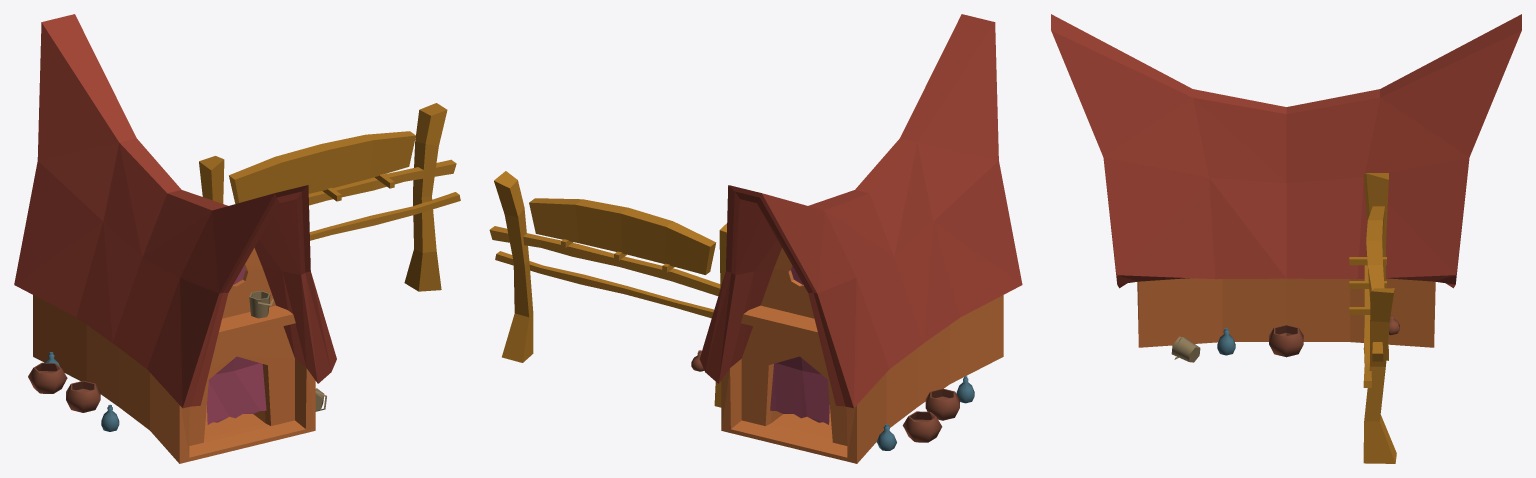
File: witchhouse3.FBX
3 renders of one model, left to right at view 1: azimuth 30°, elevation 25°; view 2: azimuth 150°, elevation 25°; view 3: azimuth 270°, elevation 25°, orthographic.
Parts seen in each view (by area): view 1: Box001, Box004, Cylinder007, Cylinder005, Cylinder008; view 2: Box001, Box004, Cylinder007, Cylinder005; view 3: Box001, Box004, Cylinder003, Cylinder009.
Part boxes in pixels (bbox=[...]): Box001: bbox=[14, 14, 336, 463]; Box004: bbox=[199, 103, 460, 291]; Cylinder007: bbox=[28, 362, 67, 393]; Cylinder005: bbox=[66, 380, 100, 412]; Cylinder008: bbox=[249, 290, 273, 318]; Box001: bbox=[699, 14, 1022, 463]; Box004: bbox=[489, 171, 726, 407]; Cylinder007: bbox=[902, 411, 942, 442]; Cylinder005: bbox=[925, 388, 959, 420]; Box001: bbox=[1051, 14, 1521, 347]; Box004: bbox=[1349, 173, 1396, 463]; Cylinder003: bbox=[1269, 324, 1303, 357]; Cylinder009: bbox=[1171, 336, 1200, 362].
Size of the model in its own units: 51.85 by 33.31 by 48.32.
